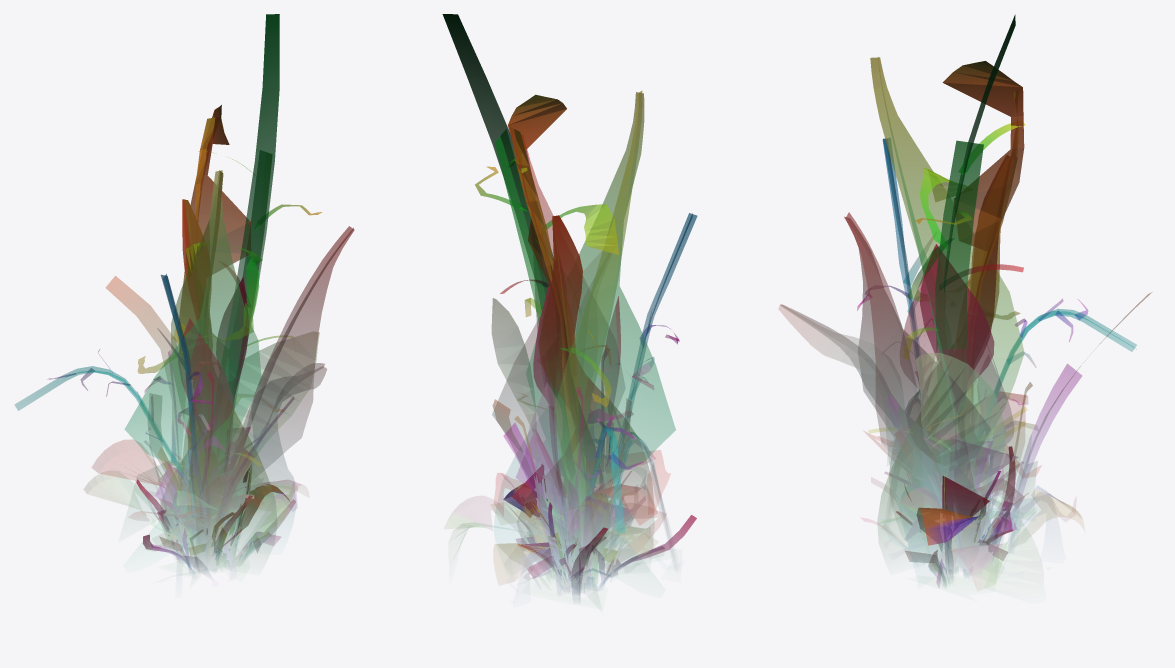
The model's file is tbbqejqr_tier_1.gltf.
The picture shows the model from 3 angles, left to right: view 1: azimuth 30°, elevation 25°; view 2: azimuth 150°, elevation 25°; view 3: azimuth 270°, elevation 25°; orthographic projection. The views are drawn at different scales.
Visible parts, largest first — view 1: SM_tbbqejqr_VarA, SM_tbbqejqr_VarC, SM_tbbqejqr_VarB, SM_tbbqejqr_VarD; view 2: SM_tbbqejqr_VarA, SM_tbbqejqr_VarB, SM_tbbqejqr_VarC, SM_tbbqejqr_VarD; view 3: SM_tbbqejqr_VarA, SM_tbbqejqr_VarB, SM_tbbqejqr_VarC, SM_tbbqejqr_VarD.
Boxes of the visible parts, x1,y1,x2,y2 form: SM_tbbqejqr_VarA: (92,14,354,547); SM_tbbqejqr_VarC: (84,199,293,563); SM_tbbqejqr_VarB: (15,105,319,555); SM_tbbqejqr_VarD: (136,465,295,571); SM_tbbqejqr_VarA: (442,14,697,588); SM_tbbqejqr_VarB: (455,94,643,568); SM_tbbqejqr_VarC: (516,215,673,580); SM_tbbqejqr_VarD: (503,464,696,599); SM_tbbqejqr_VarA: (778,14,1151,572); SM_tbbqejqr_VarB: (883,61,1136,572); SM_tbbqejqr_VarC: (878,155,1037,547); SM_tbbqejqr_VarD: (896,446,1016,587).
Size of what is drawn, in the model's own units: 0.3535 by 0.6886 by 0.3845.
